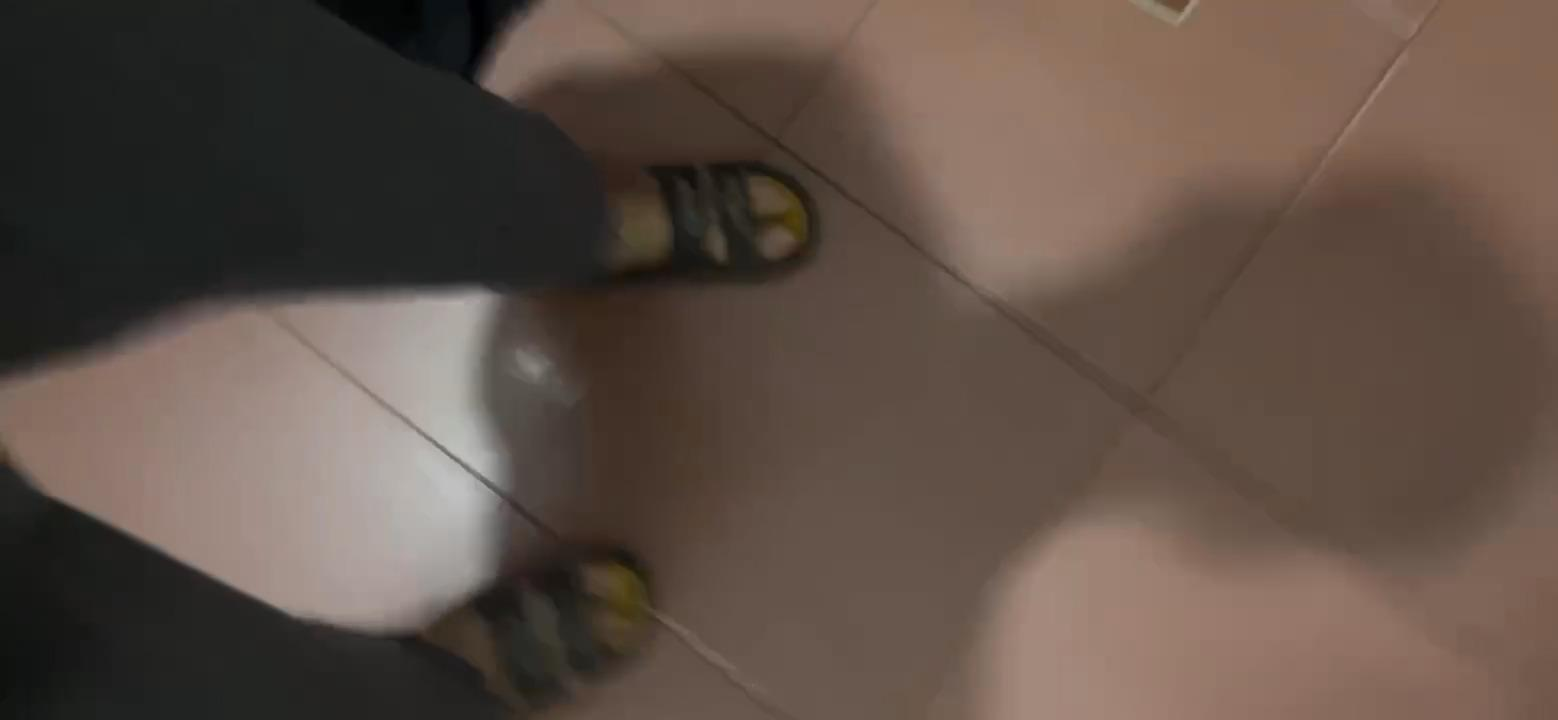no-boot: (437, 541, 673, 718), (565, 143, 814, 293)
